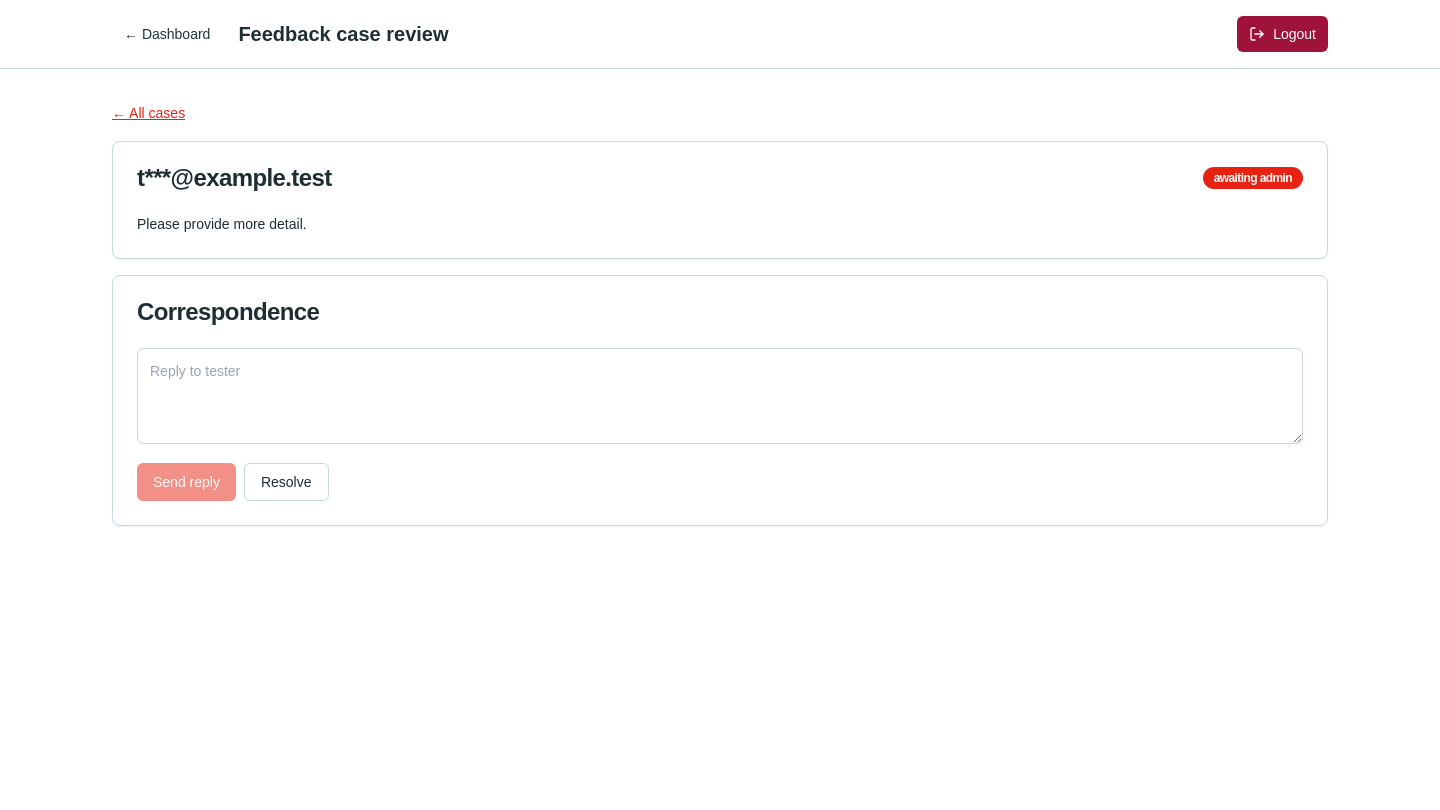
AdminFeedbackCasesPage › shows a sent reply and updated case status without reloading
In the text box with placeholder "Reply to tester": (720, 396) [137,348,1303,444], type "Thanks for the feedback."
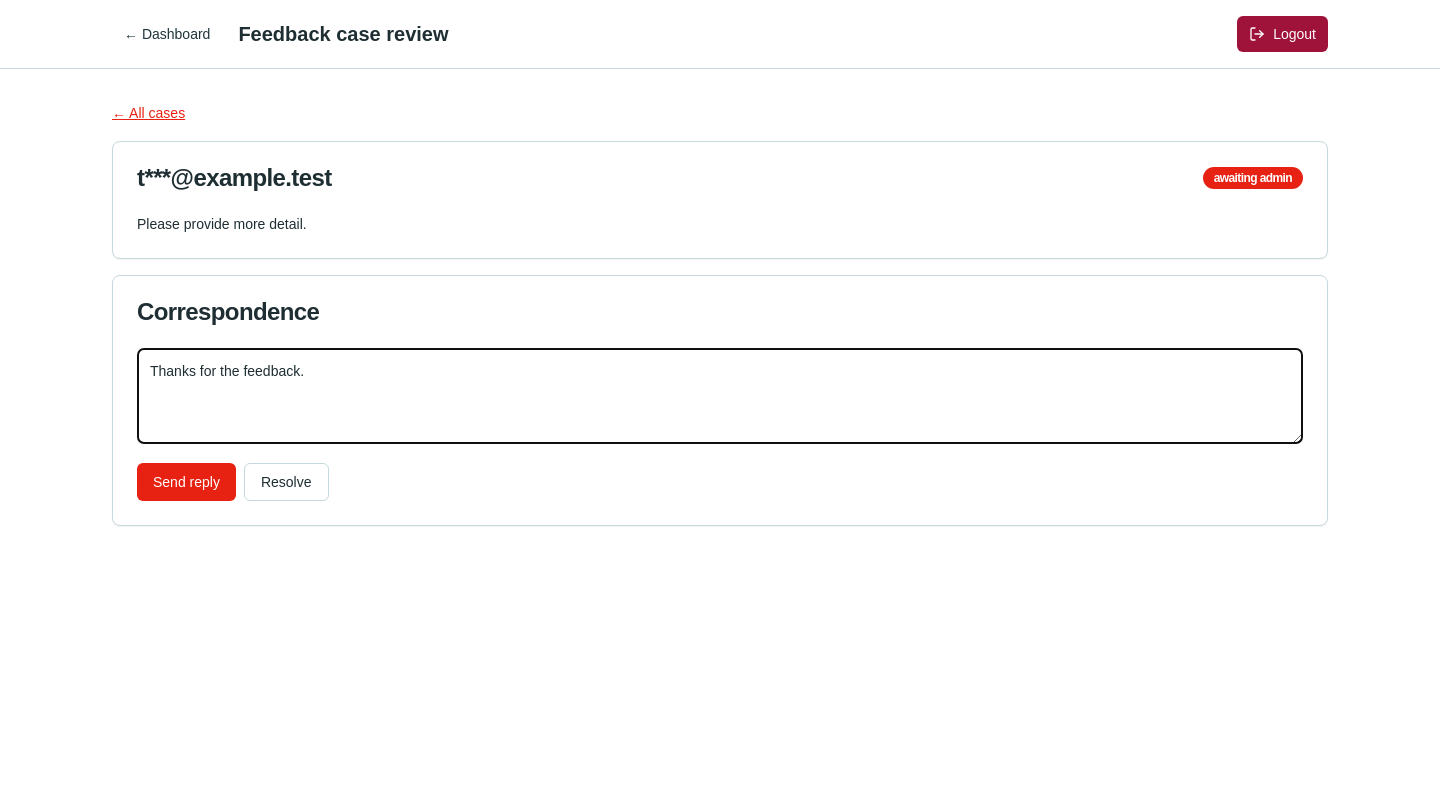
Click the button "Send reply": (186, 482) [137,463,236,501]
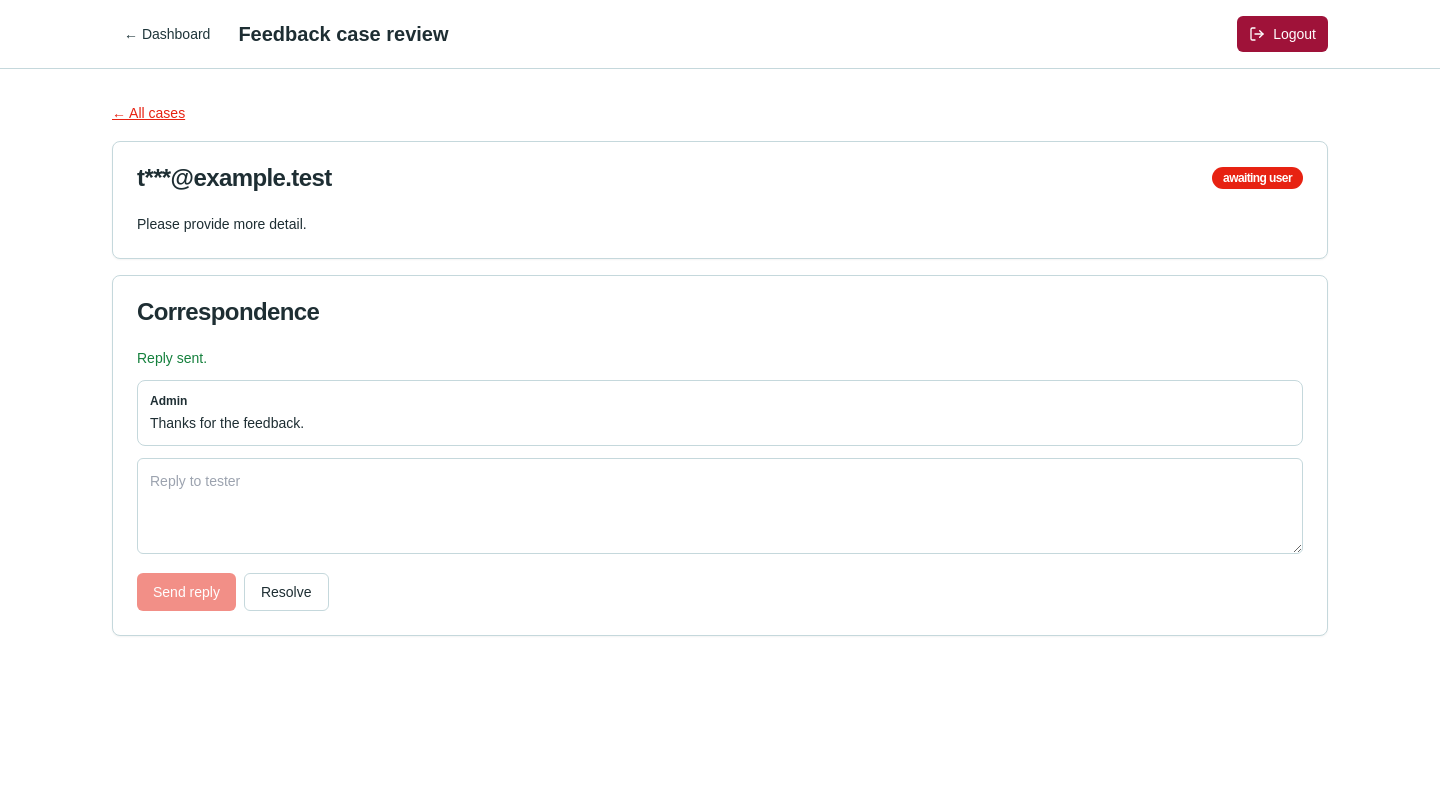
Now the text "Reply sent." is shown, box [137,350,207,366]
Now the text "Thanks for the feedback." is shown, box [150,415,304,431]
Now the text "awaiting user" is shown, box [1212,167,1303,189]
